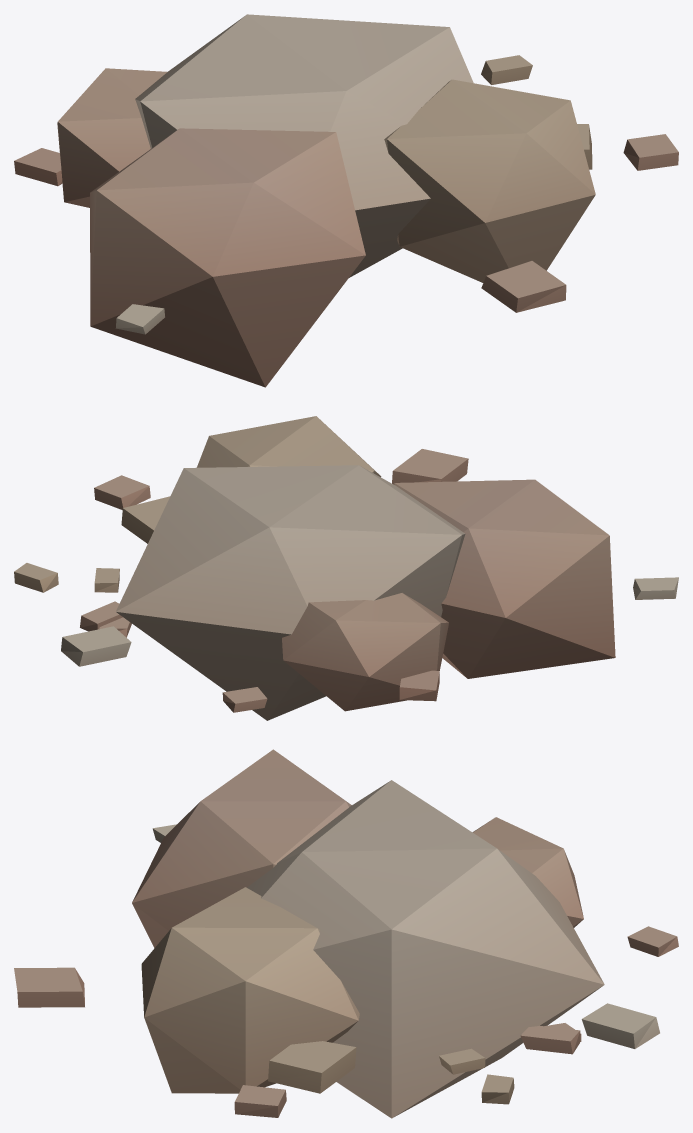
File: sandstone_outcrop_a.glb
3 renders of one model, top to bottom at view 1: azimuth 30°, elevation 25°; view 2: azimuth 150°, elevation 25°; view 3: azimuth 270°, elevation 25°, orthographic. The views are drawn at different scales.
Visible parts, largest first — view 1: sandstone_outcrop_a; view 2: sandstone_outcrop_a; view 3: sandstone_outcrop_a.
Part boxes in pixels (x1,y1,x2,y2): sandstone_outcrop_a: (14, 14, 678, 387); sandstone_outcrop_a: (14, 416, 678, 720); sandstone_outcrop_a: (14, 749, 678, 1118).
Bounding box in the file's own units: 1.95 × 0.6803 × 1.91.
